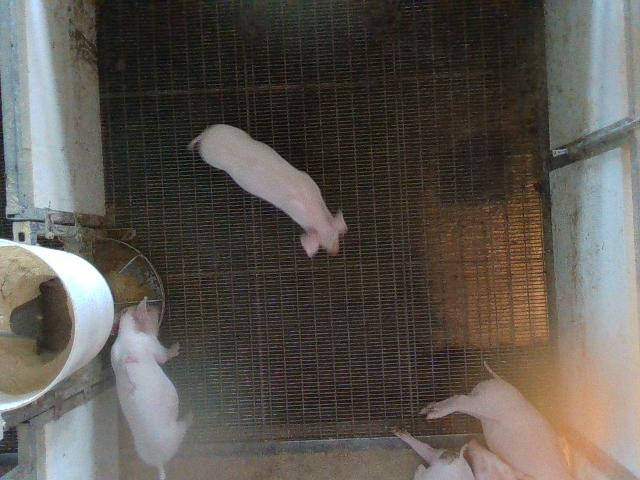pig-5: (111, 298, 192, 479)
